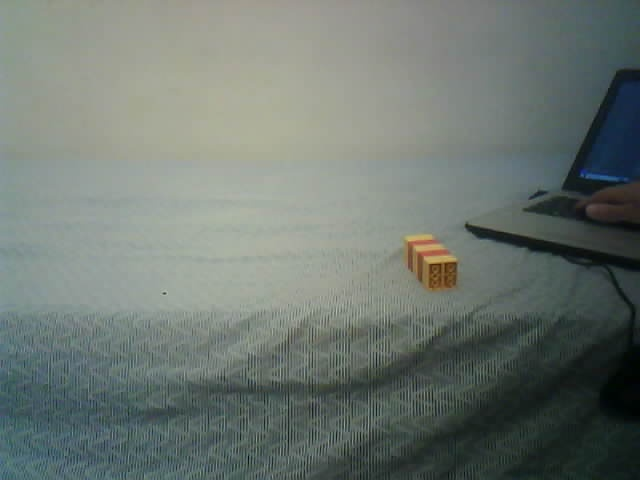lego: (401, 232, 460, 293)
